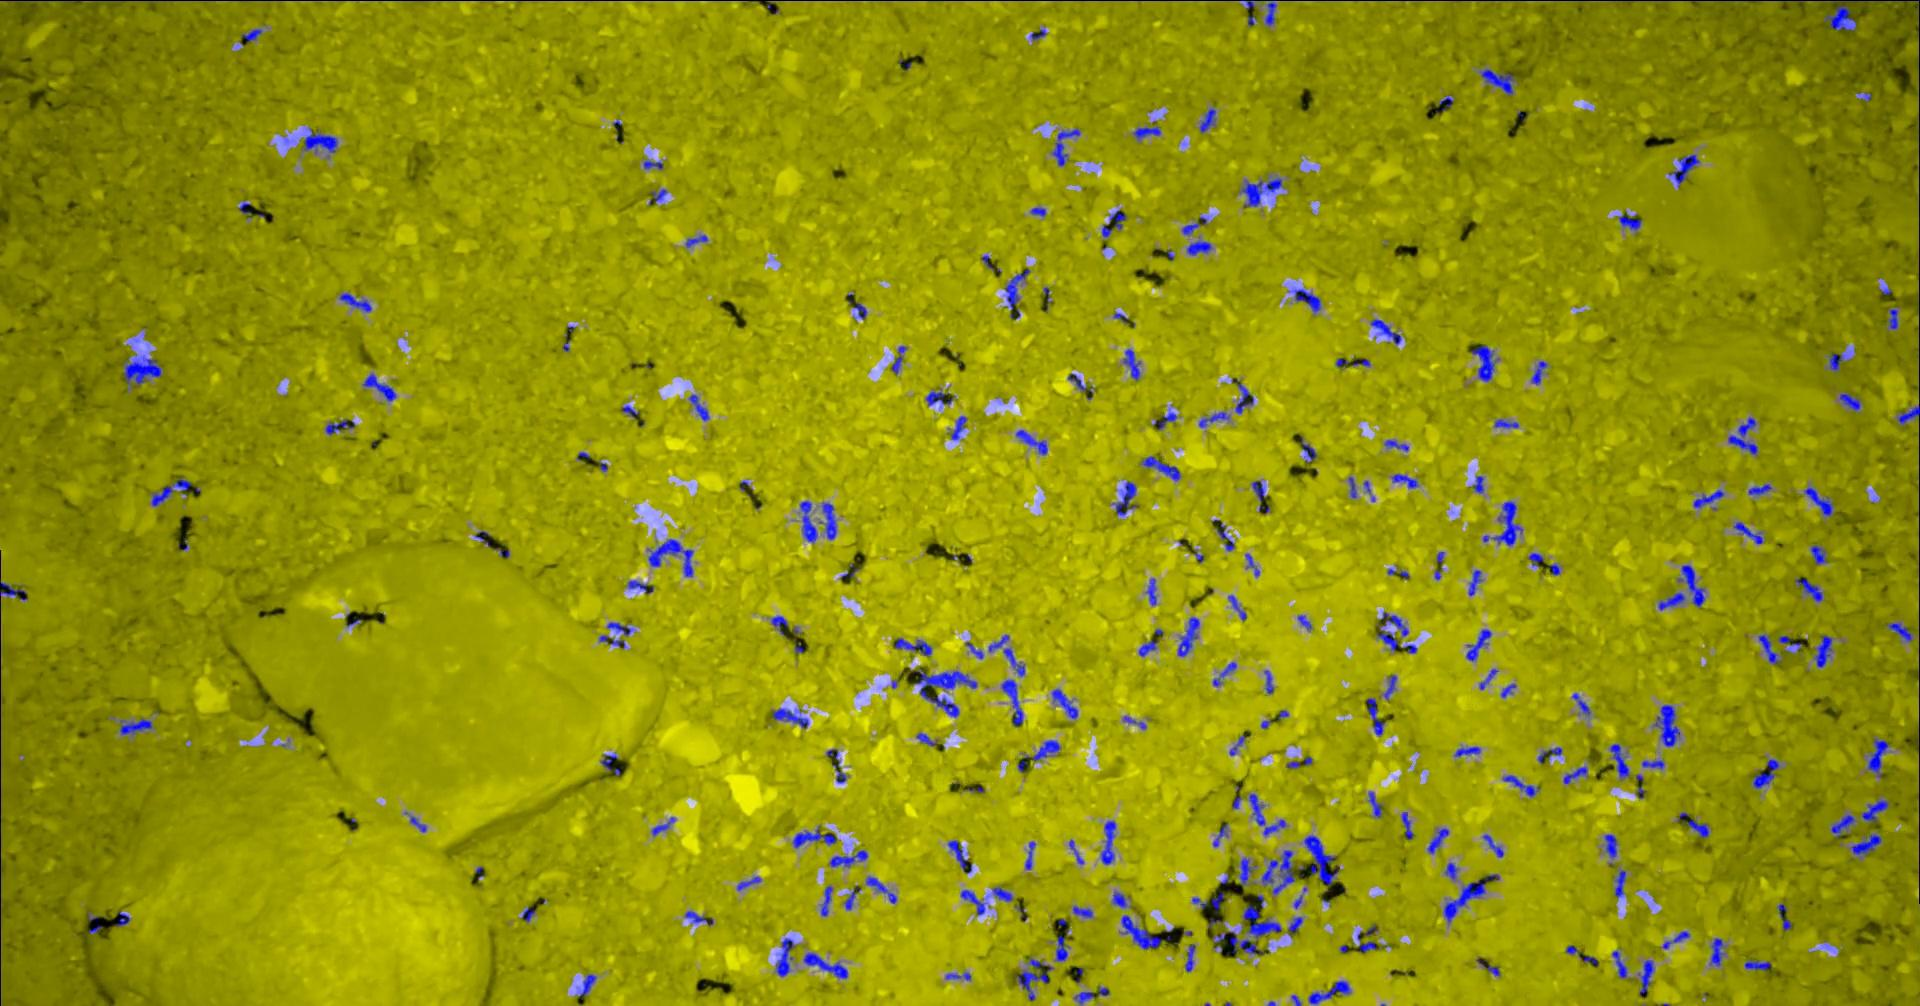ant: (914, 668, 977, 716), (1823, 0, 1919, 30), (1443, 874, 1498, 922), (1482, 500, 1523, 545), (1303, 835, 1337, 884), (648, 539, 693, 575), (1015, 958, 1051, 1000), (988, 634, 1023, 676), (1261, 850, 1294, 894), (1017, 739, 1060, 772), (1120, 915, 1161, 949), (1243, 904, 1281, 937), (1241, 177, 1281, 207), (123, 354, 161, 386), (1004, 268, 1029, 318), (803, 951, 847, 978), (1727, 417, 1757, 455), (150, 478, 190, 506), (1677, 564, 1704, 606), (1051, 128, 1079, 166), (1655, 704, 1679, 746), (1308, 981, 1350, 1005), (1669, 154, 1699, 187), (1470, 345, 1498, 381), (1001, 680, 1022, 725), (362, 373, 396, 401), (792, 826, 836, 847), (1142, 456, 1180, 480), (1481, 69, 1514, 95), (1177, 616, 1199, 655), (1867, 738, 1888, 777), (865, 876, 897, 903), (302, 128, 337, 152), (1803, 486, 1832, 514), (1465, 629, 1491, 661), (1676, 812, 1708, 837), (1288, 288, 1321, 312), (1015, 429, 1048, 453), (1112, 481, 1137, 514), (947, 840, 971, 873), (1502, 775, 1539, 796), (1230, 379, 1253, 413), (1370, 319, 1401, 344), (799, 500, 817, 542), (1752, 760, 1779, 788), (1379, 611, 1408, 636), (1051, 688, 1077, 718), (1229, 931, 1263, 953), (893, 636, 931, 655), (775, 937, 794, 976), (771, 708, 808, 727), (1609, 743, 1629, 777), (825, 748, 846, 782), (829, 848, 867, 866), (1757, 634, 1780, 663), (1100, 821, 1115, 864), (1366, 699, 1384, 735), (1074, 986, 1109, 1005), (1067, 373, 1092, 399), (1796, 577, 1822, 601), (1733, 521, 1763, 542), (1211, 661, 1236, 686), (960, 889, 984, 915), (339, 292, 371, 311), (1564, 945, 1596, 964), (1851, 833, 1881, 854), (1251, 480, 1269, 513), (1862, 799, 1888, 821), (1830, 814, 1854, 837), (119, 718, 152, 734), (688, 394, 709, 420), (1693, 489, 1723, 507), (1638, 959, 1653, 995), (1123, 348, 1139, 380), (1815, 635, 1831, 667), (1660, 930, 1689, 948), (1427, 828, 1448, 854), (822, 502, 836, 539), (1248, 793, 1263, 826), (924, 387, 952, 405), (1377, 627, 1398, 650), (1482, 835, 1503, 857), (847, 293, 866, 319), (0, 580, 25, 600), (1227, 594, 1246, 620), (1886, 622, 1911, 641), (1217, 523, 1234, 550), (1657, 592, 1684, 610), (1197, 412, 1228, 427), (1181, 216, 1206, 234), (325, 419, 354, 434), (1239, 857, 1256, 884), (1618, 211, 1641, 230), (651, 815, 674, 835), (1476, 956, 1498, 976), (890, 345, 905, 373), (684, 909, 712, 925), (1478, 668, 1498, 688), (599, 754, 620, 775), (1356, 931, 1377, 951), (1571, 694, 1590, 715), (1153, 412, 1176, 429), (1199, 108, 1215, 132), (1530, 359, 1547, 384), (950, 415, 966, 439), (1537, 746, 1561, 762), (1563, 766, 1587, 782), (1390, 473, 1418, 486), (1710, 937, 1724, 965), (1186, 240, 1211, 255), (1300, 437, 1316, 462), (1839, 392, 1860, 410), (1897, 405, 1919, 423), (579, 973, 596, 996), (1611, 950, 1625, 977), (1401, 810, 1413, 840), (1777, 635, 1801, 650), (1068, 840, 1083, 864), (844, 885, 860, 909), (1810, 544, 1827, 564), (771, 615, 789, 635), (1206, 892, 1223, 913), (1133, 126, 1161, 138), (1368, 791, 1382, 817), (1211, 823, 1227, 846), (820, 885, 832, 916), (1109, 210, 1126, 229), (606, 622, 632, 635), (1263, 819, 1285, 835), (1263, 0, 1276, 25), (1468, 569, 1481, 594), (627, 580, 653, 593), (598, 635, 623, 648), (1244, 553, 1258, 575), (1023, 841, 1035, 869), (737, 876, 759, 890), (1055, 934, 1067, 962), (1183, 942, 1195, 970), (1138, 639, 1157, 655), (1229, 734, 1244, 754), (1383, 674, 1396, 699), (1286, 756, 1310, 768), (1614, 870, 1625, 897), (1743, 959, 1770, 970), (648, 188, 665, 205), (1829, 353, 1845, 371), (684, 234, 707, 246), (1749, 483, 1771, 495), (1604, 835, 1617, 857), (916, 732, 936, 746), (992, 887, 1012, 901), (1288, 916, 1302, 936), (1435, 95, 1451, 112), (1145, 578, 1156, 605), (1454, 746, 1481, 756), (241, 28, 262, 41), (1072, 904, 1092, 917), (409, 815, 425, 831), (1384, 439, 1408, 450), (1112, 890, 1126, 907), (116, 909, 130, 926), (1470, 475, 1483, 493), (1263, 669, 1272, 694), (1528, 553, 1543, 567), (1297, 615, 1310, 630), (1500, 683, 1515, 697), (521, 906, 535, 921), (1444, 862, 1457, 879), (1641, 760, 1663, 768), (237, 202, 250, 217), (945, 972, 970, 979), (1888, 307, 1897, 329), (643, 160, 663, 169), (1495, 419, 1517, 427), (1349, 476, 1356, 497), (1030, 207, 1045, 216)
